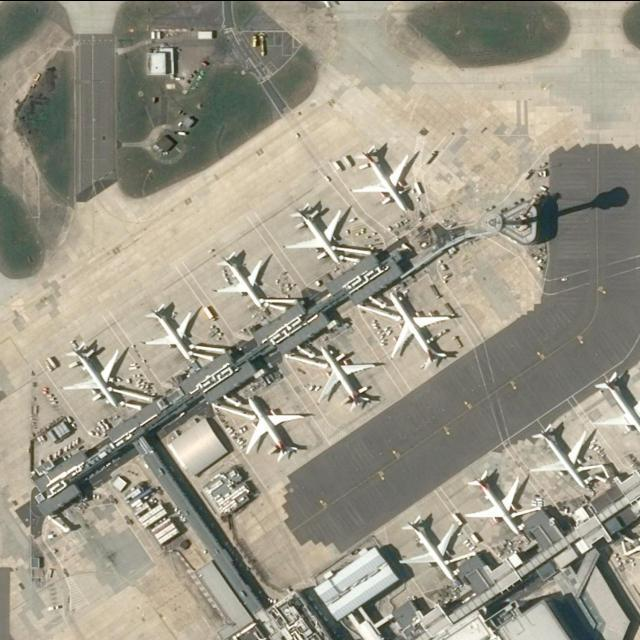Aircraft: (388, 285, 453, 368), (526, 420, 596, 489), (314, 340, 380, 411), (244, 395, 311, 463), (401, 511, 464, 583), (64, 336, 126, 408), (467, 465, 528, 537), (284, 200, 347, 265), (356, 141, 416, 209), (593, 370, 640, 448), (217, 248, 271, 310), (145, 300, 199, 361)
